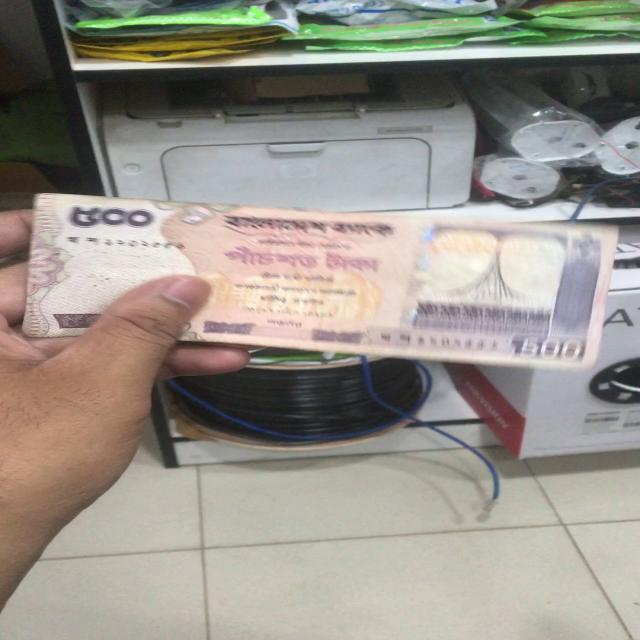Taka: (24, 196, 600, 367)
